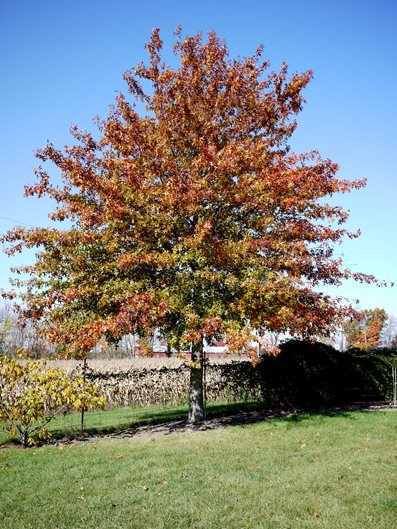bush: (258, 339, 397, 412)
tree: (14, 23, 350, 419)
